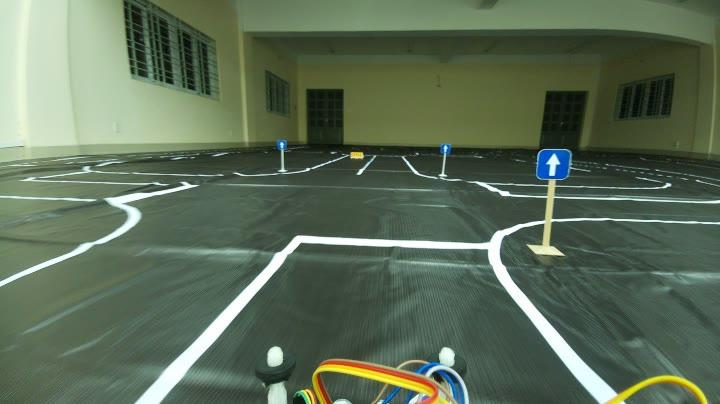onewayroad: (531, 145, 578, 185), (274, 136, 288, 150), (439, 139, 450, 156)
roadblock: (348, 148, 372, 164)
